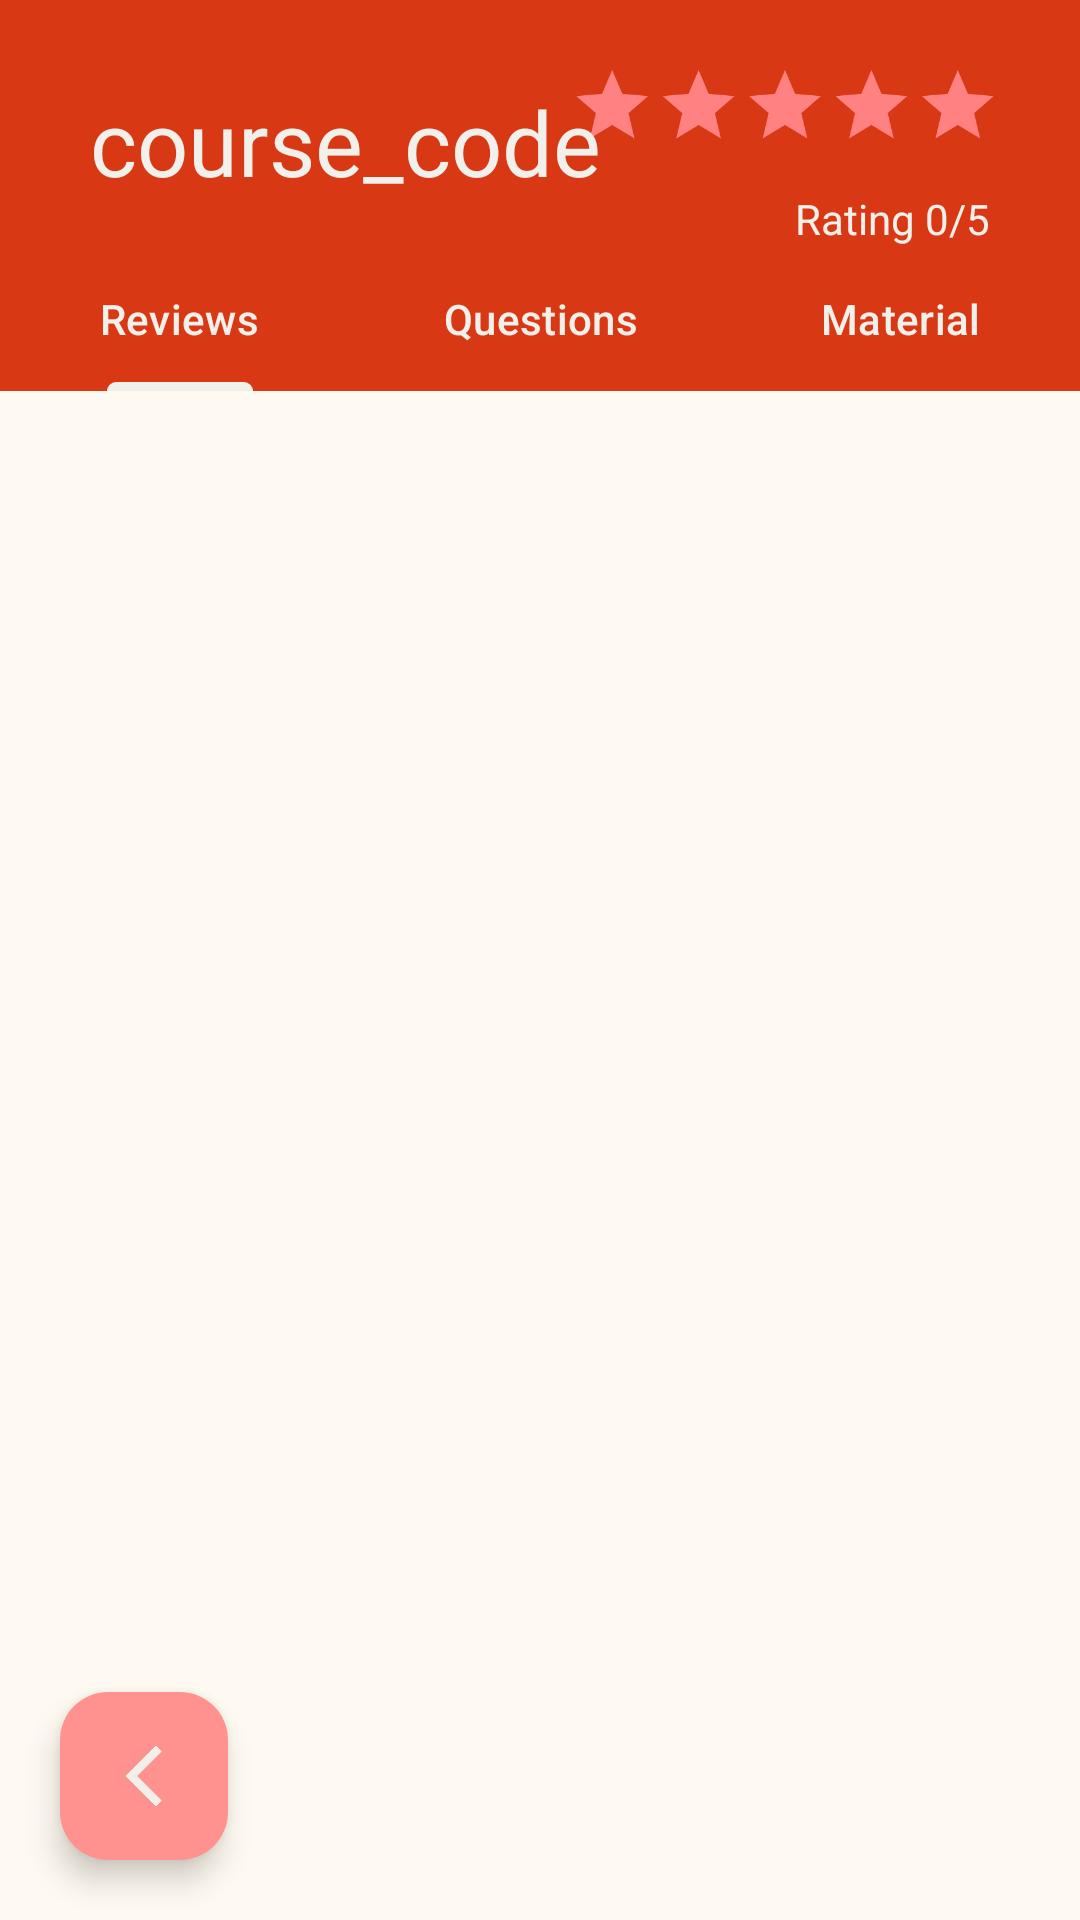

Icons on this 1080px x 1920px Android screen, each with the point to tap as point (x, y):
arrow back: point (144, 1776)
